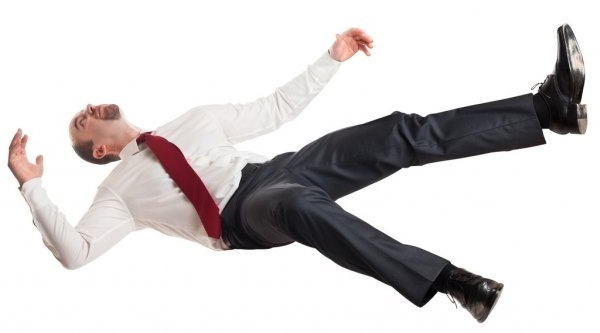fall: (9, 15, 592, 316)
